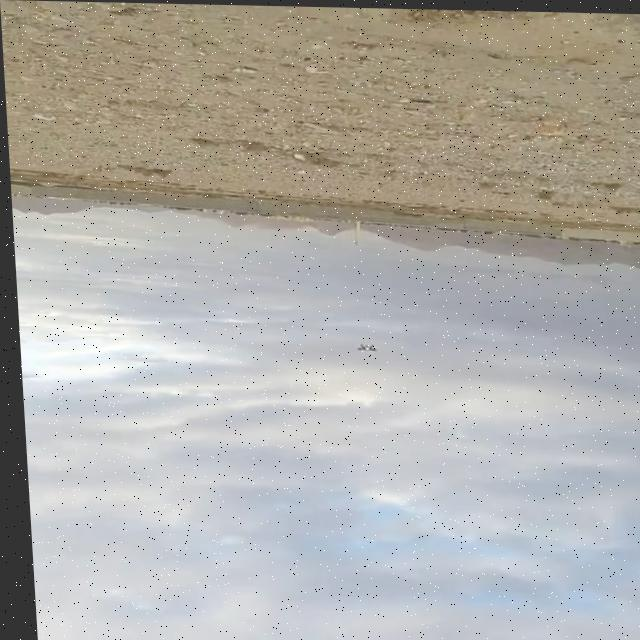drone: (350, 339, 376, 353)
